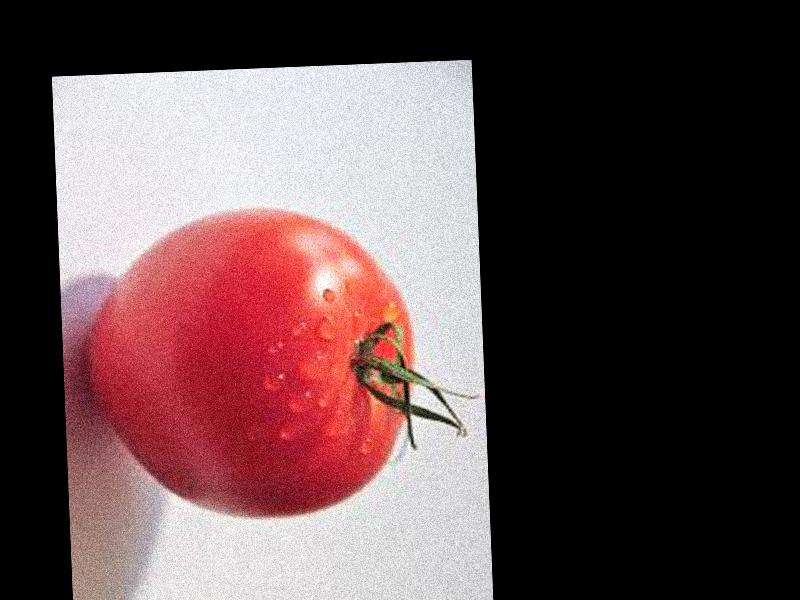Tomato: (82, 202, 415, 523)
